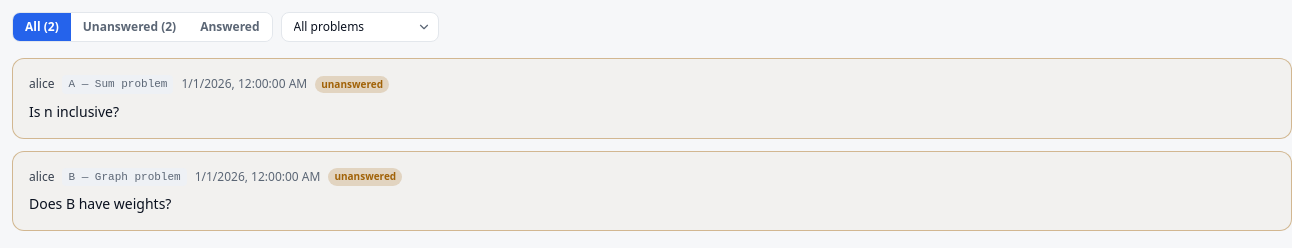
ClarificationsPanel › filters by problem
Select "B — Graph problem" in the dropdown named "Filter by problem" at (360, 27), box [281,12,439,42]
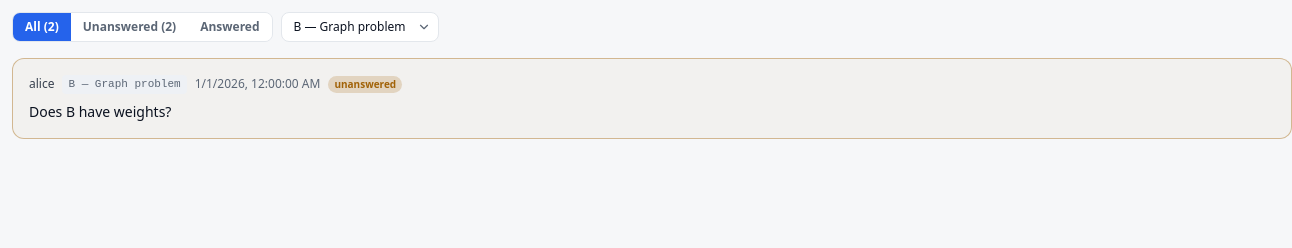
Expected: the text "Does B have weights?" is shown, [29,102,171,121]
Expected: the text "Is n inclusive?" is gone
